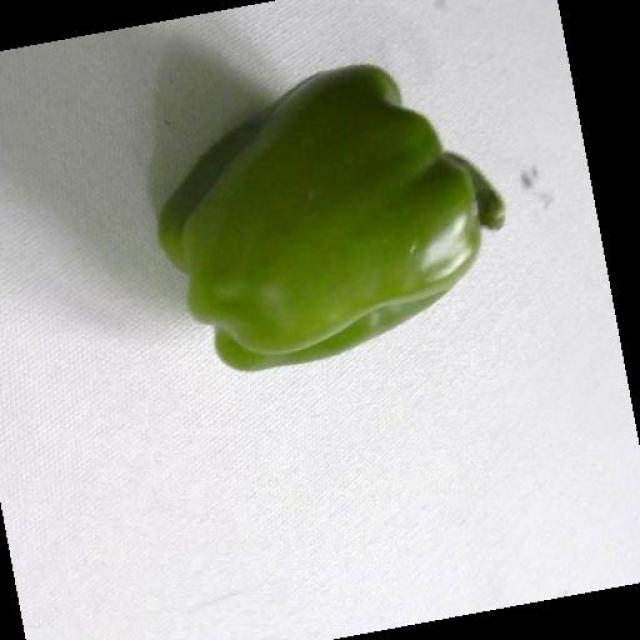Fresh_Capsicum: (196, 69, 542, 387)
